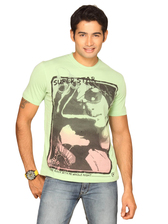clothoes: (19, 51, 139, 182)
